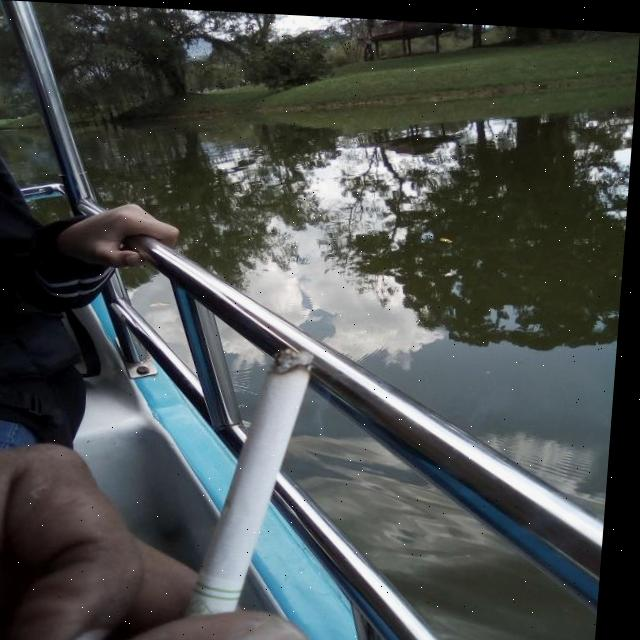cigarette: (195, 341, 320, 624)
